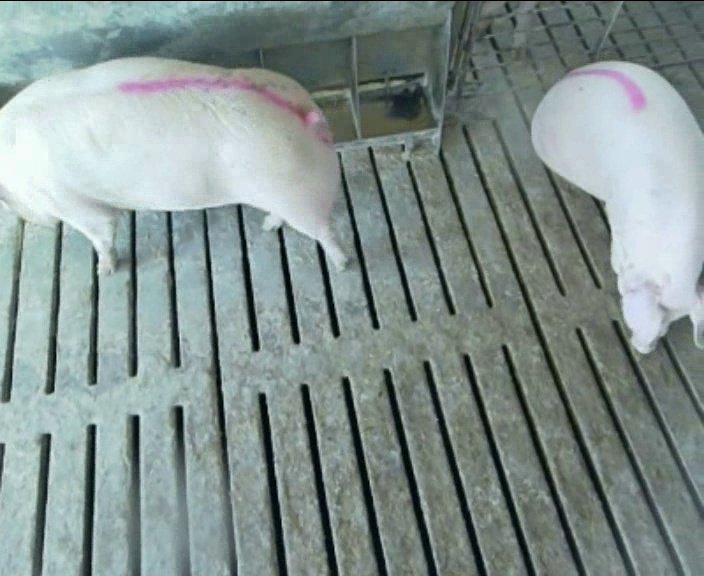pig: (532, 62, 703, 352)
